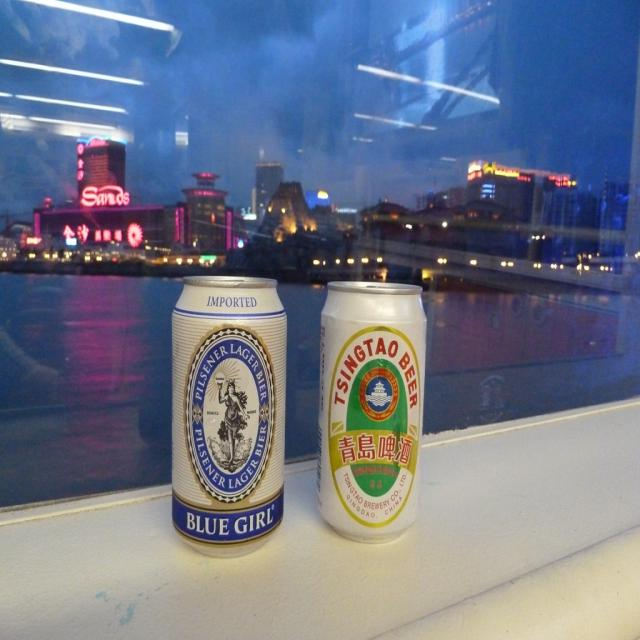tsingtao: (350, 358, 412, 440)
